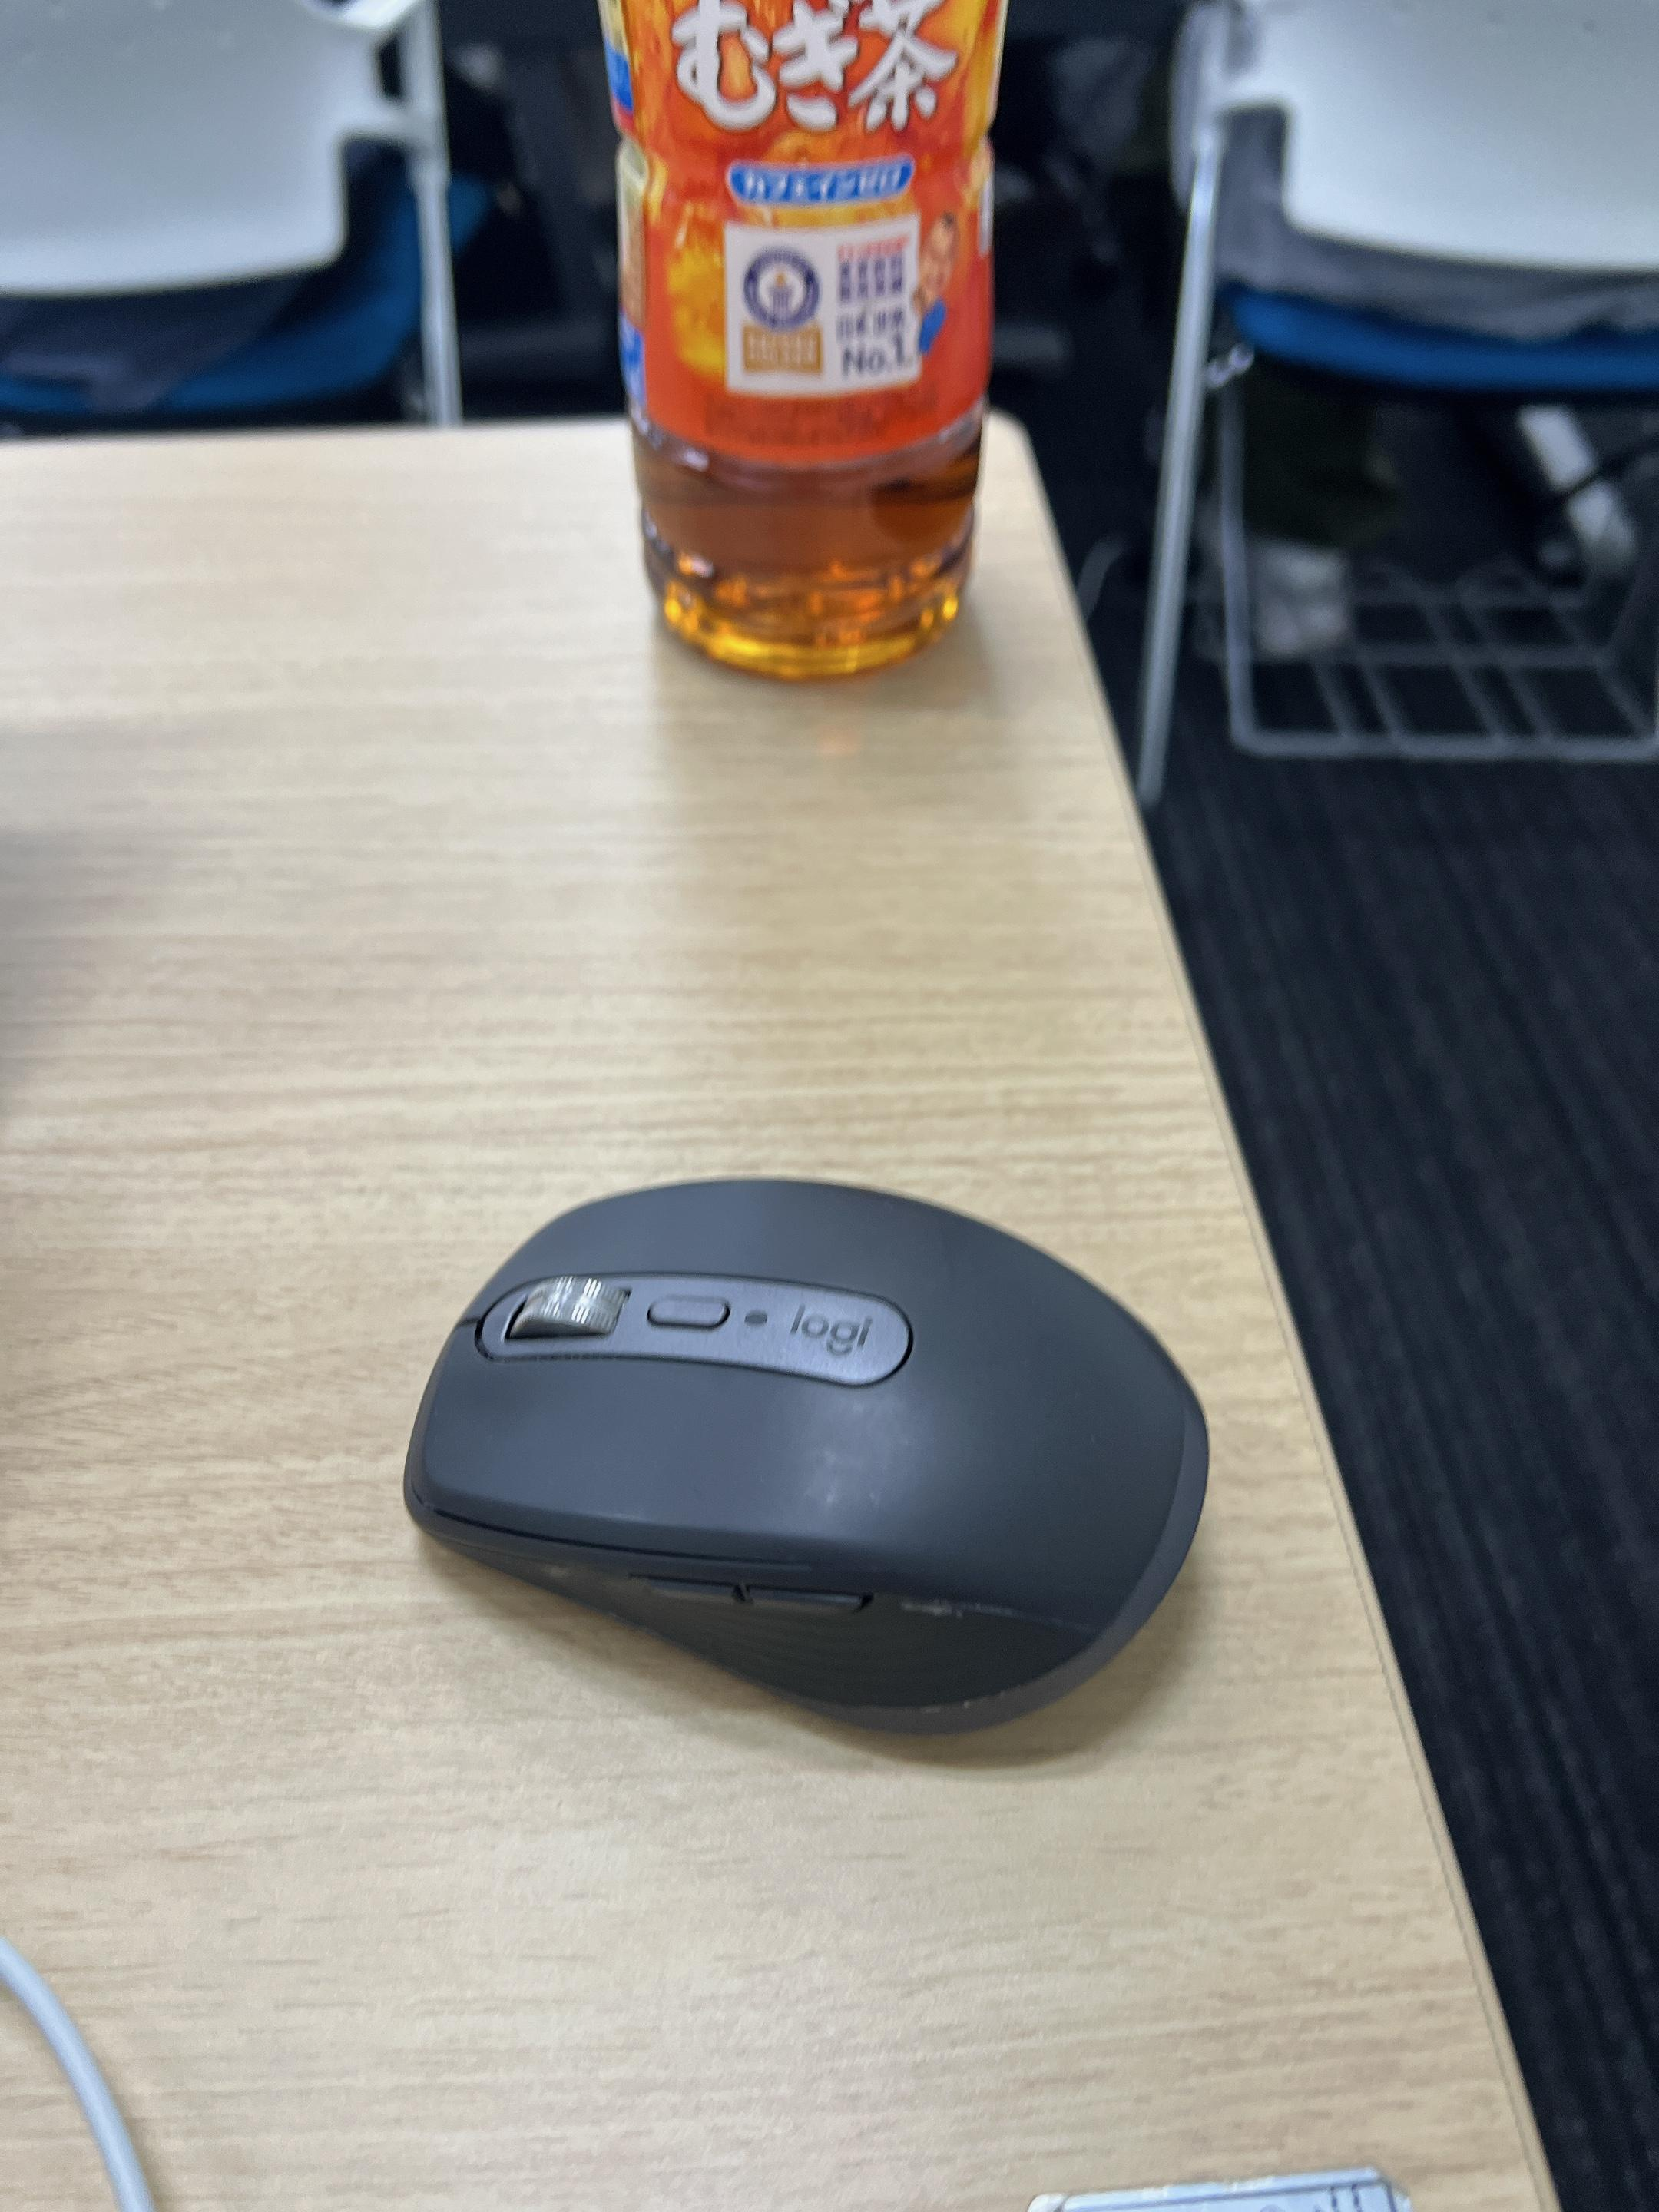mouse: (355, 1162, 1244, 1740)
